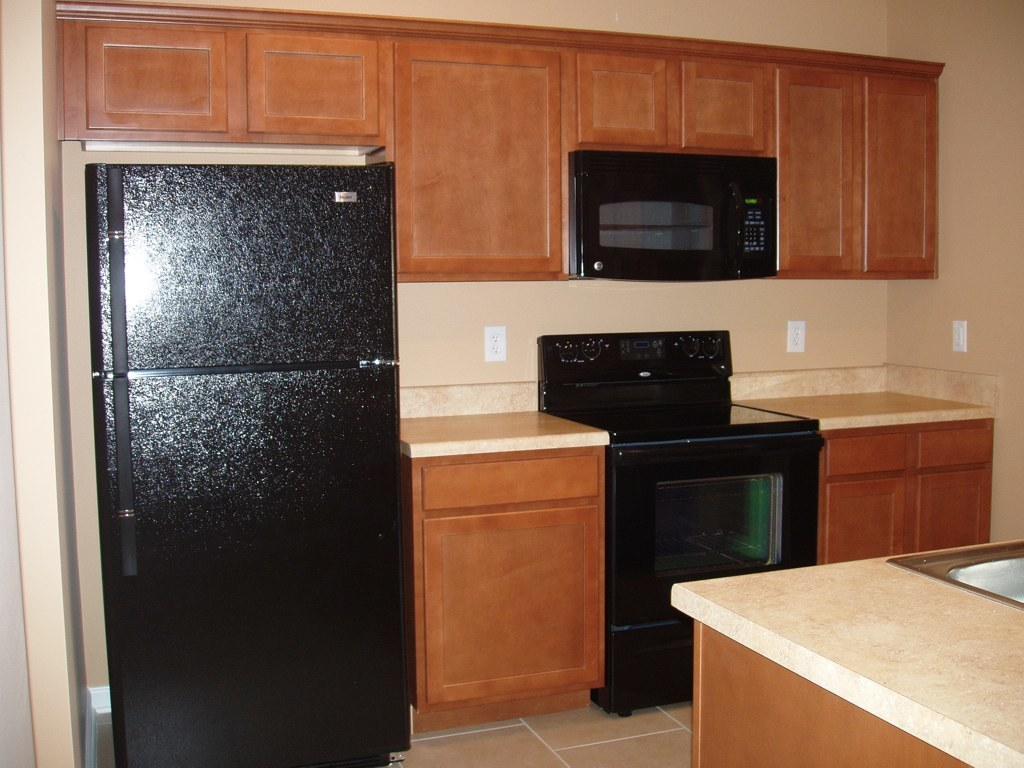cabinet door: (388, 37, 561, 274), (425, 515, 604, 690), (766, 67, 867, 276), (862, 74, 946, 274), (247, 31, 387, 141), (90, 23, 226, 133), (571, 38, 678, 147), (674, 55, 774, 154), (818, 487, 904, 566), (918, 474, 986, 553)
handle: (102, 379, 150, 577), (95, 154, 138, 366)
refrigerator door: (104, 385, 408, 766), (104, 164, 395, 364)
